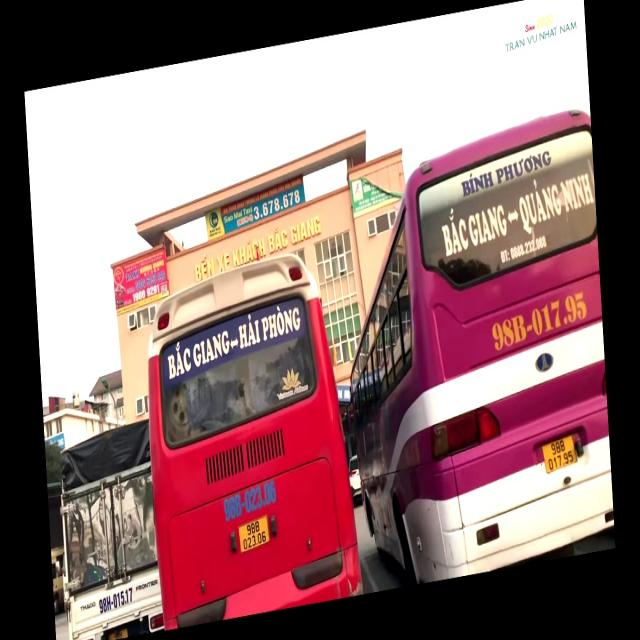bien_vang: (541, 428, 577, 473), (237, 513, 274, 552)
